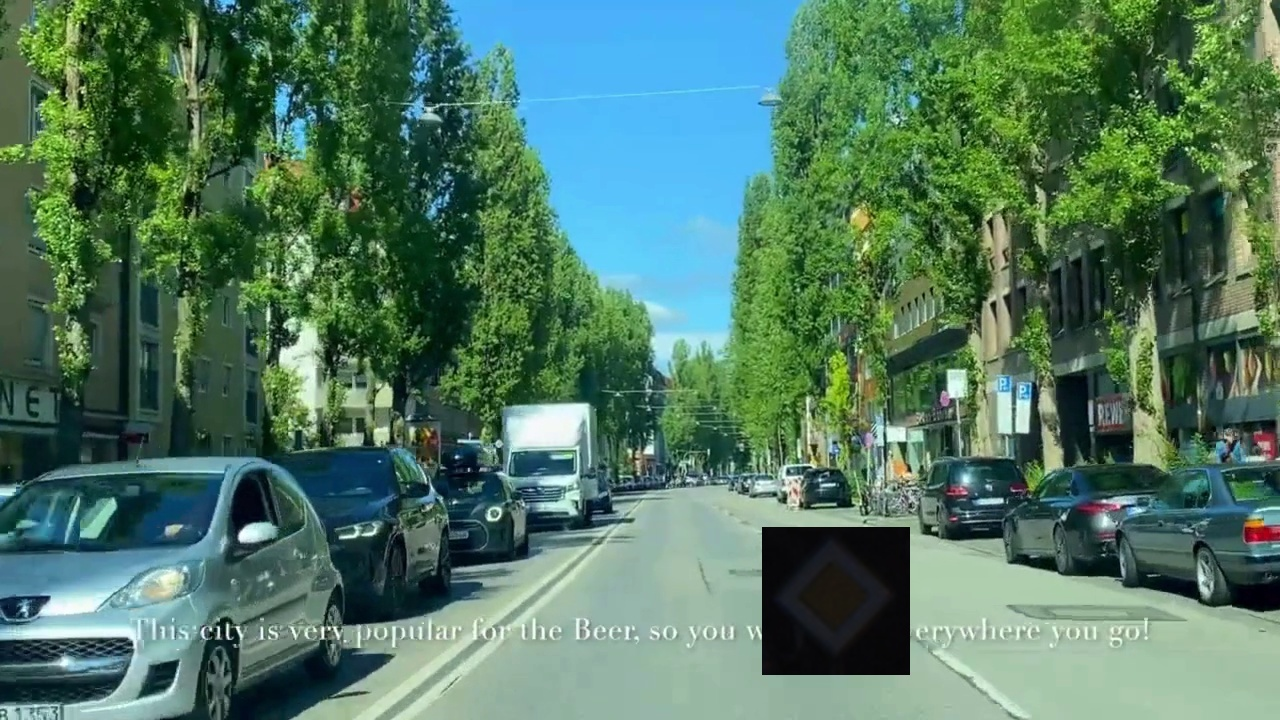Priority road: (762, 527, 910, 675)
